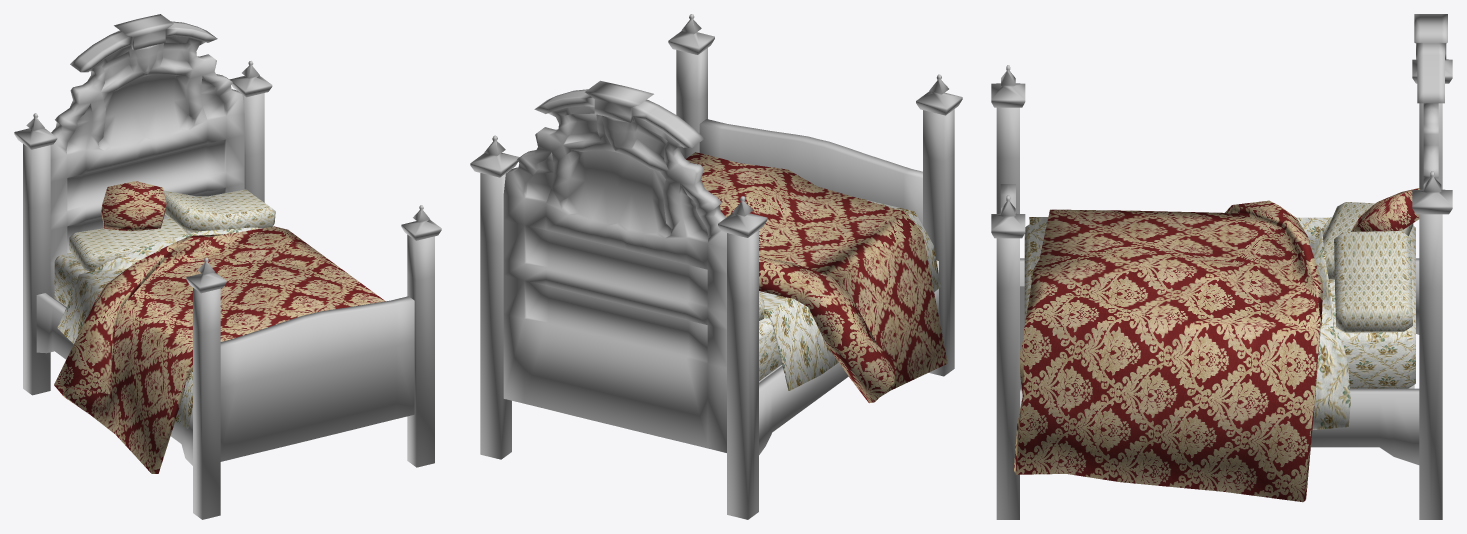
Rendered from Bed_Queen.fbx.
The picture shows the model from 3 angles, left to right: view 1: azimuth 30°, elevation 25°; view 2: azimuth 150°, elevation 25°; view 3: azimuth 270°, elevation 25°; orthographic projection. The views are drawn at different scales.
Parts seen in each view (by area): view 1: Bed_Queen_LOD0; view 2: Bed_Queen_LOD0; view 3: Bed_Queen_LOD0.
Part boxes in pixels (x1,y1,x2,y2): Bed_Queen_LOD0: [14, 14, 441, 519]; Bed_Queen_LOD0: [470, 14, 962, 519]; Bed_Queen_LOD0: [991, 14, 1452, 519].
Size of what is drawn, in the model's own units: 496 by 530 by 526.
